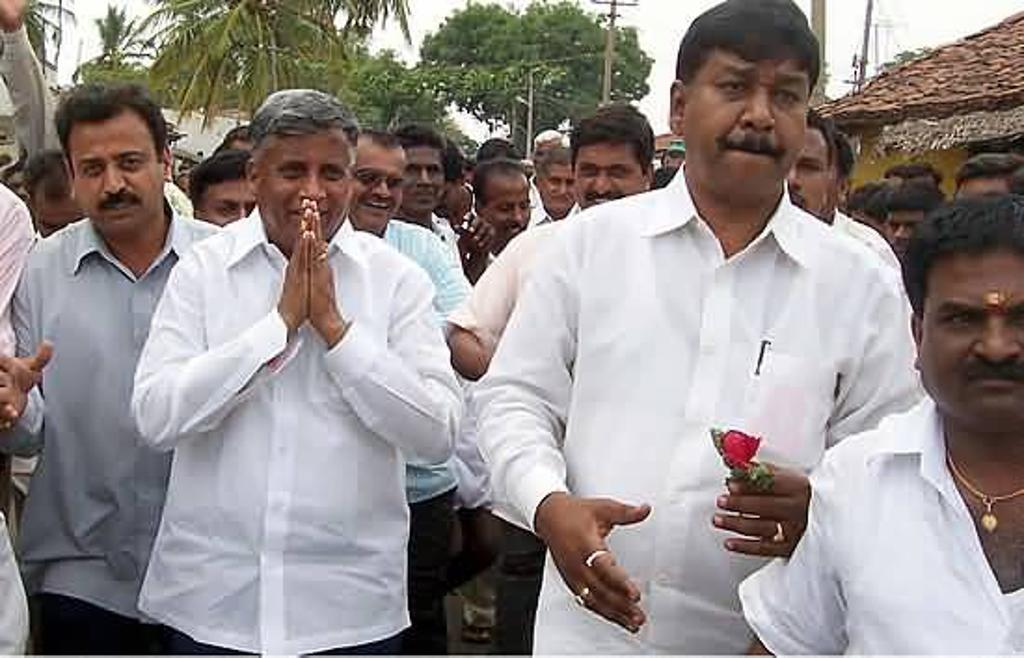face: (689, 51, 808, 209), (918, 255, 1024, 430), (258, 142, 351, 258), (67, 133, 162, 235), (763, 133, 830, 228), (572, 144, 642, 225), (350, 153, 405, 234), (32, 190, 95, 254), (203, 185, 261, 249), (883, 208, 940, 268), (481, 182, 532, 238), (399, 149, 442, 214), (230, 143, 276, 197), (422, 166, 459, 221), (545, 164, 578, 213), (534, 140, 564, 178), (4, 173, 34, 211), (849, 204, 876, 240), (149, 149, 172, 184), (661, 151, 686, 175), (178, 180, 197, 203)
